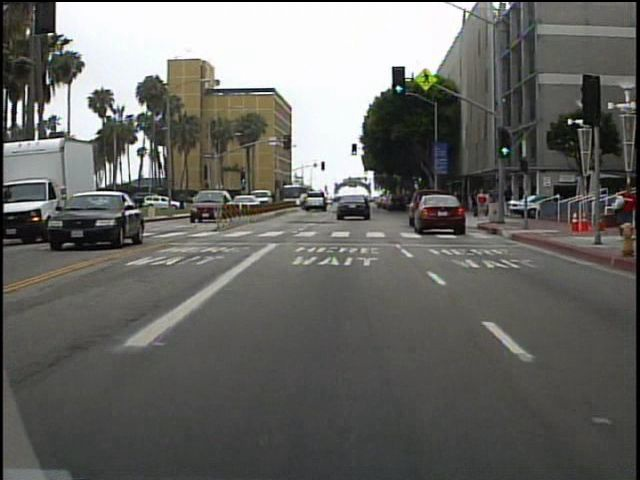person: (472, 186, 488, 224), (488, 183, 501, 220), (502, 183, 516, 217)
